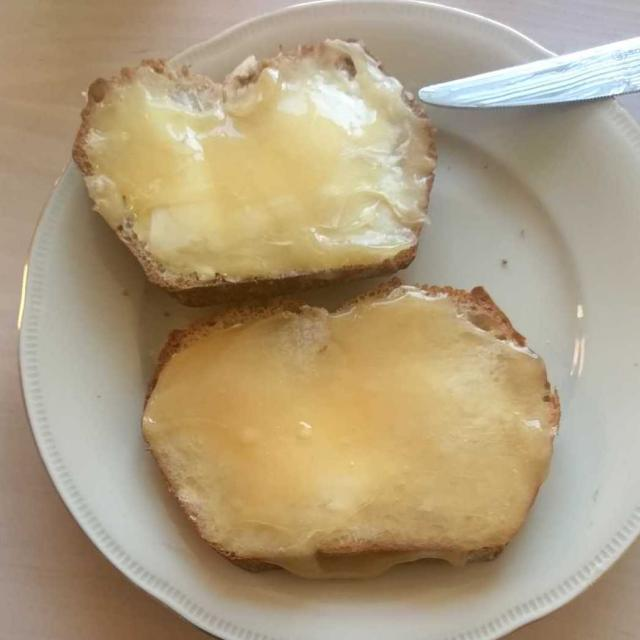bread-white: (92, 46, 586, 576)
butter: (73, 82, 535, 531)
honey: (110, 90, 537, 562)
